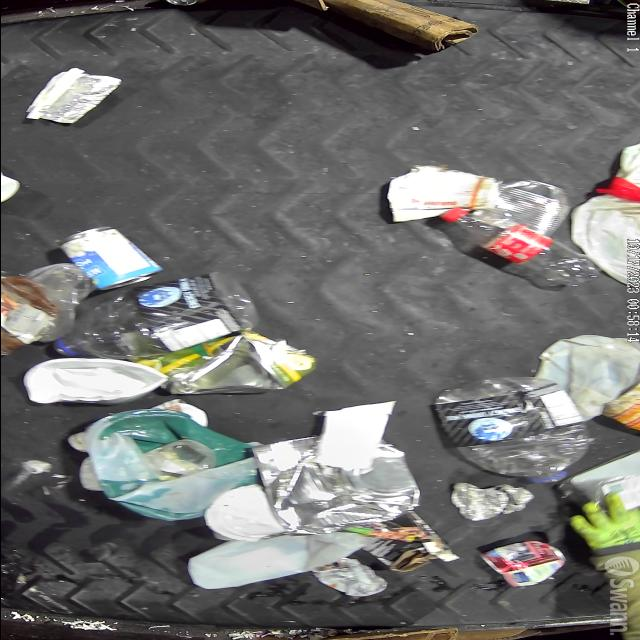can: (250, 436, 419, 532), (58, 227, 162, 290), (470, 179, 566, 237), (482, 541, 564, 587), (159, 0, 254, 7)
milk_jug: (186, 532, 367, 589), (534, 336, 640, 422), (570, 194, 640, 290)
plastic_bottle: (52, 272, 260, 360), (434, 376, 593, 484), (441, 208, 601, 288)
